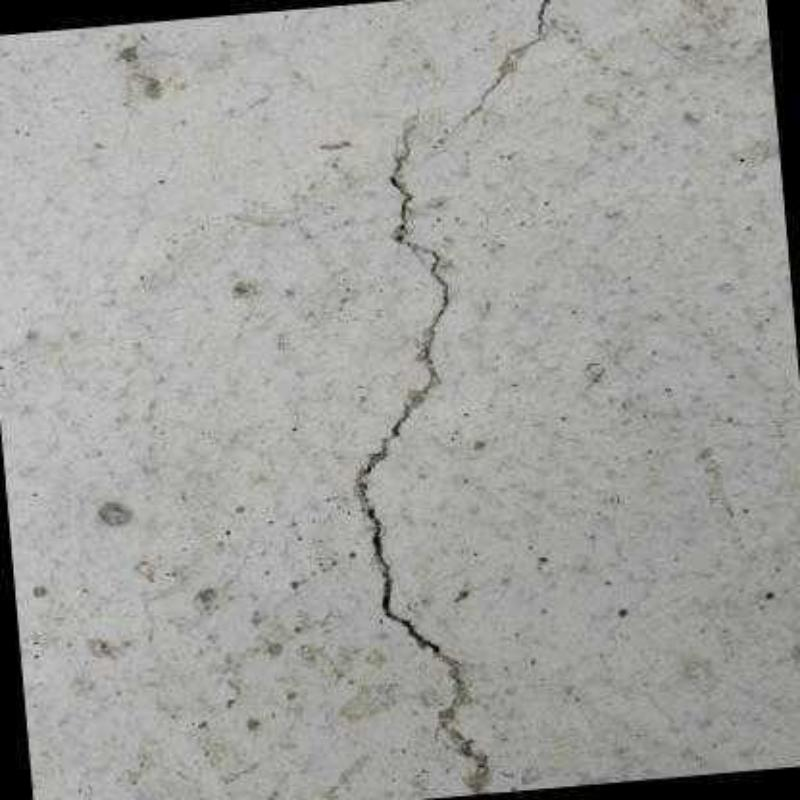crack: (359, 125, 451, 654), (460, 0, 550, 123), (433, 652, 487, 792)
